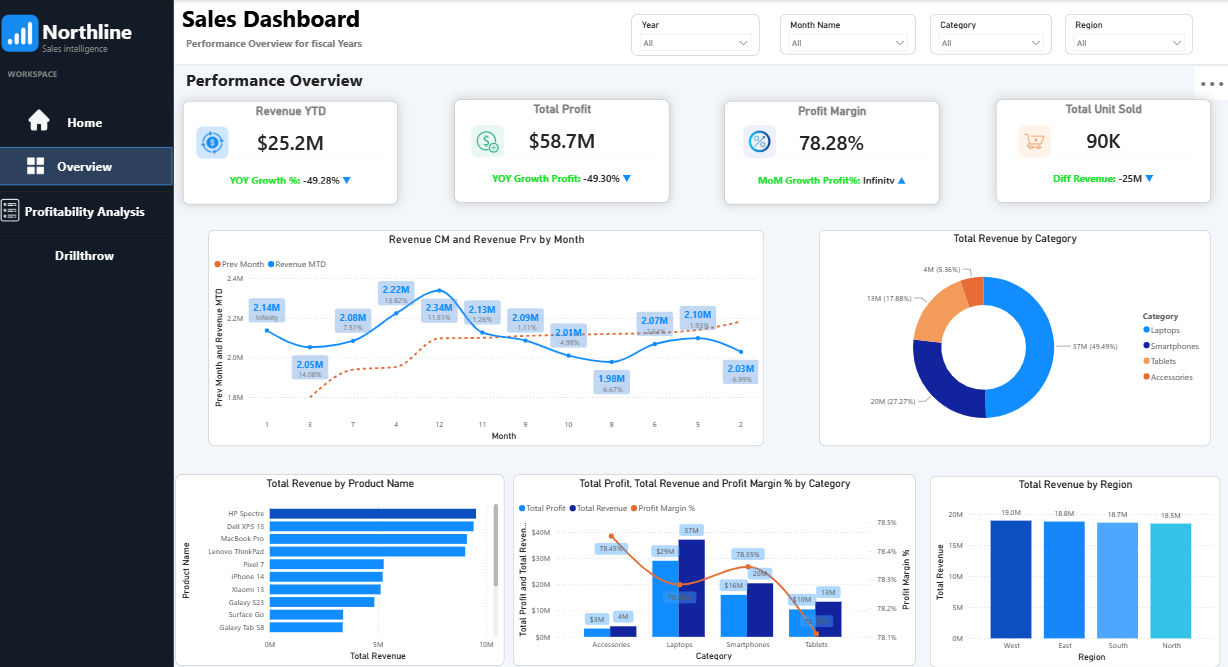

Layout of this report page (visuals, bound fields, positions):
{"tool":"powerbi","page":{"name":"Overview","canvas":[2000,1100],"ordinal":1},"visuals":[{"type":"shape","box":[285,0,1715,107.5],"z":0},{"type":"textbox","box":[285,0,335,65],"z":1000},{"type":"lineChart","title":"Revenue CM and Revenue Prv by Month","fields":{"Category":["Calender Table.Day","Calender Table.Month"],"Y":["Measure.Prev Month","Measure.Revenue MTD"]},"box":[342.5,375,900,350],"z":2000},{"type":"lineClusteredColumnComboChart","fields":{"Category":["data.Category","data.Product Name"],"Y":["Measure.Total Profit","Measure.Total Revenue"],"Y2":["Measure.Profit Margin %"]},"box":[835,770,652.5,310],"z":3000},{"type":"donutChart","fields":{"Category":["data.Category"],"Y":["Measure.Total Revenue"]},"box":[1332.5,375,634,350],"z":4000},{"type":"clusteredBarChart","fields":{"Category":["data.Product Name"],"Y":["Measure.Total Revenue"]},"box":[290,770,532.5,310],"z":5000},{"type":"clusteredColumnChart","fields":{"Category":["data.Region"],"Y":["Measure.Total Revenue"]},"box":[1512.5,772.5,470,310],"z":6000},{"type":"slicer","fields":{"Values":["Calender Table.Year"]},"box":[1027.5,25,207.5,67.5],"z":7000},{"type":"slicer","fields":{"Values":["Calender Table.Month Name"]},"box":[1267.5,25,220,65],"z":8000},{"type":"slicer","fields":{"Values":["data.Category"]},"box":[1512.5,25,197.5,65],"z":9000},{"type":"slicer","fields":{"Values":["data.Region"]},"box":[1730,25,207.5,65],"z":10000},{"type":"shape","box":[0,0,286.7,1100],"z":11000},{"type":"textbox","box":[302.5,55,317.5,42.5],"z":12000},{"type":"textbox","box":[67.5,25,172.5,57.5],"z":13000},{"type":"image","box":[8.3,13.3,60,86.7],"z":14000},{"type":"textbox","box":[67.5,65,157.5,31.2],"z":15000},{"type":"cardVisual","title":"Revenue YTD","fields":{"Data":["Measure.YTD Revenue"]},"box":[302.5,166.3,348,167],"z":16000},{"type":"textbox","box":[302.5,107.5,298,46],"z":17000},{"type":"image","box":[317.8,206.7,61.1,52.2],"z":18000},{"type":"cardVisual","title":"Total Profit","fields":{"Data":["Measure.Total Profit"]},"box":[740.8,163.6,348,167],"z":19000},{"type":"image","box":[740,205,106.7,52.7],"z":20000},{"type":"cardVisual","title":"Profit Margin","fields":{"Data":["Measure.Profit Margin %"]},"box":[1179.2,164.7,348,167.5],"z":21000},{"type":"image","box":[1202.5,205,65,53],"z":22000},{"type":"cardVisual","title":"Total Unit Sold","fields":{"Data":["Measure.Total Unit"]},"box":[1617.5,162.5,348,167],"z":23000},{"type":"image","box":[1650,205,61.7,53.3],"z":24000},{"type":"textbox","box":[13,108,133,35],"z":25000},{"type":"pageNavigator","box":[0,167.7,284.3,279.5],"z":26000},{"type":"image","box":[51,176,34,42],"z":27000},{"type":"image","box":[42,250,43,40],"z":28000},{"type":"image","box":[0,323,42,38],"z":29000}]}

Visuals, with their boxes on the page's 2000x1100 design canvas (x1, y1, x2, y2). These are canvas units, not pixel positions in the 1228x667 screenshot, which may show the page scaled, cropped or inside an application window:
shape: <region>285, 0, 2000, 108</region>
textbox: <region>285, 0, 620, 65</region>
"Revenue CM and Revenue Prv by Month" lineChart: <region>342, 375, 1242, 725</region>
lineClusteredColumnComboChart - data.Category x data.Product Name: <region>835, 770, 1488, 1080</region>
donutChart - data.Category x Measure.Total Revenue: <region>1332, 375, 1966, 725</region>
clusteredBarChart - data.Product Name x Measure.Total Revenue: <region>290, 770, 822, 1080</region>
clusteredColumnChart - data.Region x Measure.Total Revenue: <region>1512, 772, 1982, 1082</region>
slicer - Calender Table.Year: <region>1028, 25, 1235, 92</region>
slicer - Calender Table.Month Name: <region>1268, 25, 1488, 90</region>
slicer - data.Category: <region>1512, 25, 1710, 90</region>
slicer - data.Region: <region>1730, 25, 1938, 90</region>
shape: <region>0, 0, 287, 1100</region>
textbox: <region>302, 55, 620, 98</region>
textbox: <region>68, 25, 240, 82</region>
image: <region>8, 13, 68, 100</region>
textbox: <region>68, 65, 225, 96</region>
"Revenue YTD" cardVisual: <region>302, 166, 650, 333</region>
textbox: <region>302, 108, 600, 154</region>
image: <region>318, 207, 379, 259</region>
"Total Profit" cardVisual: <region>741, 164, 1089, 331</region>
image: <region>740, 205, 847, 258</region>
"Profit Margin" cardVisual: <region>1179, 165, 1527, 332</region>
image: <region>1202, 205, 1268, 258</region>
"Total Unit Sold" cardVisual: <region>1618, 162, 1966, 330</region>
image: <region>1650, 205, 1712, 258</region>
textbox: <region>13, 108, 146, 143</region>
pageNavigator: <region>0, 168, 284, 447</region>
image: <region>51, 176, 85, 218</region>
image: <region>42, 250, 85, 290</region>
image: <region>0, 323, 42, 361</region>
